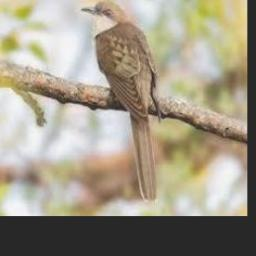Cuckoo: (80, 0, 159, 202)
